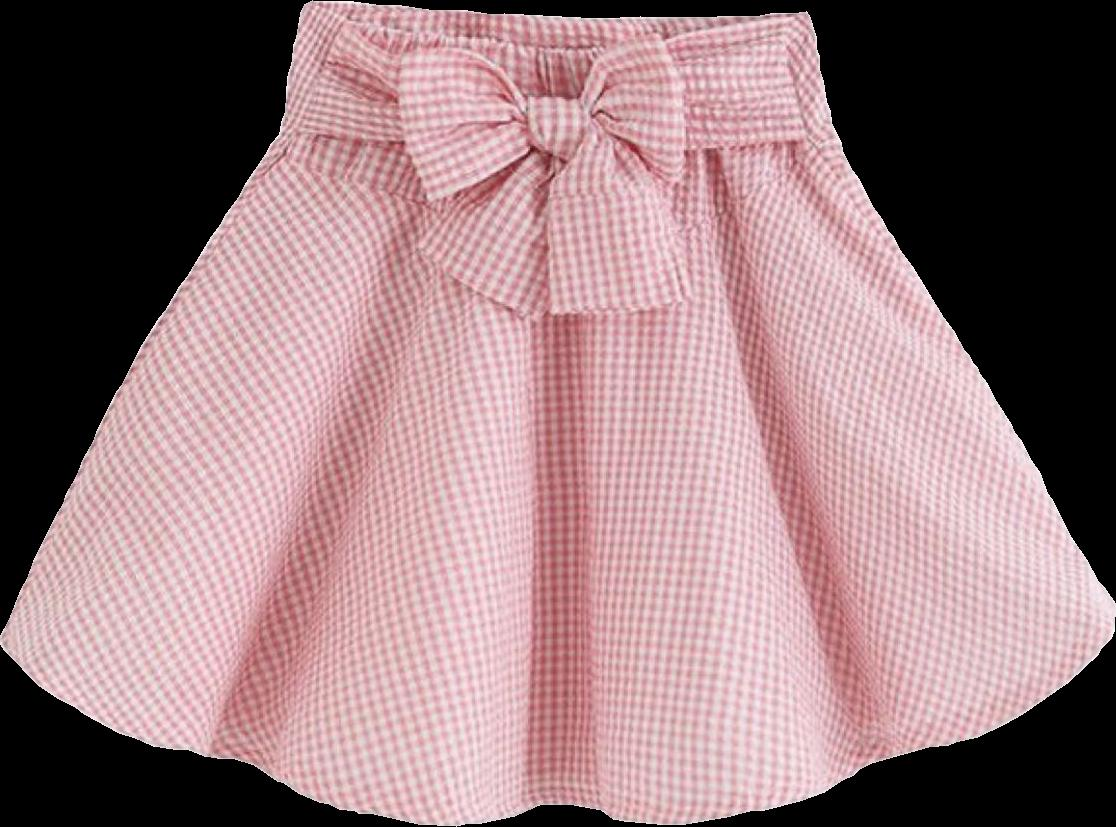Hemline: (0, 598, 1115, 826)
Waistline: (260, 127, 840, 278), (305, 3, 806, 47)
